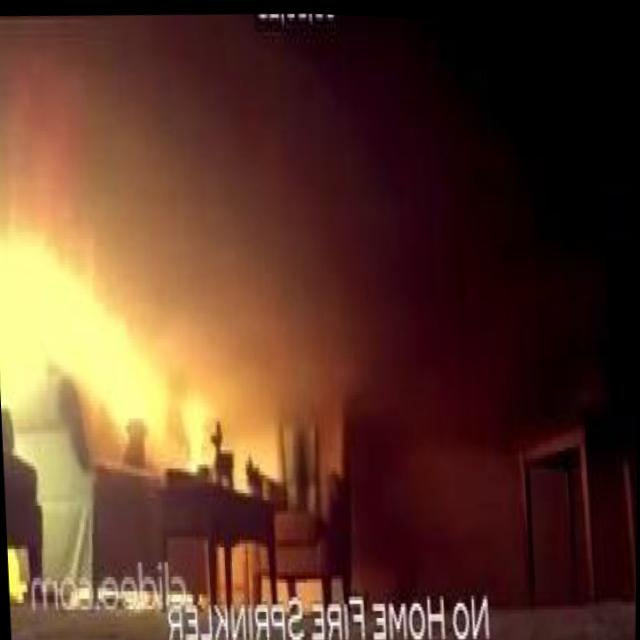fire: (0, 218, 213, 466)
